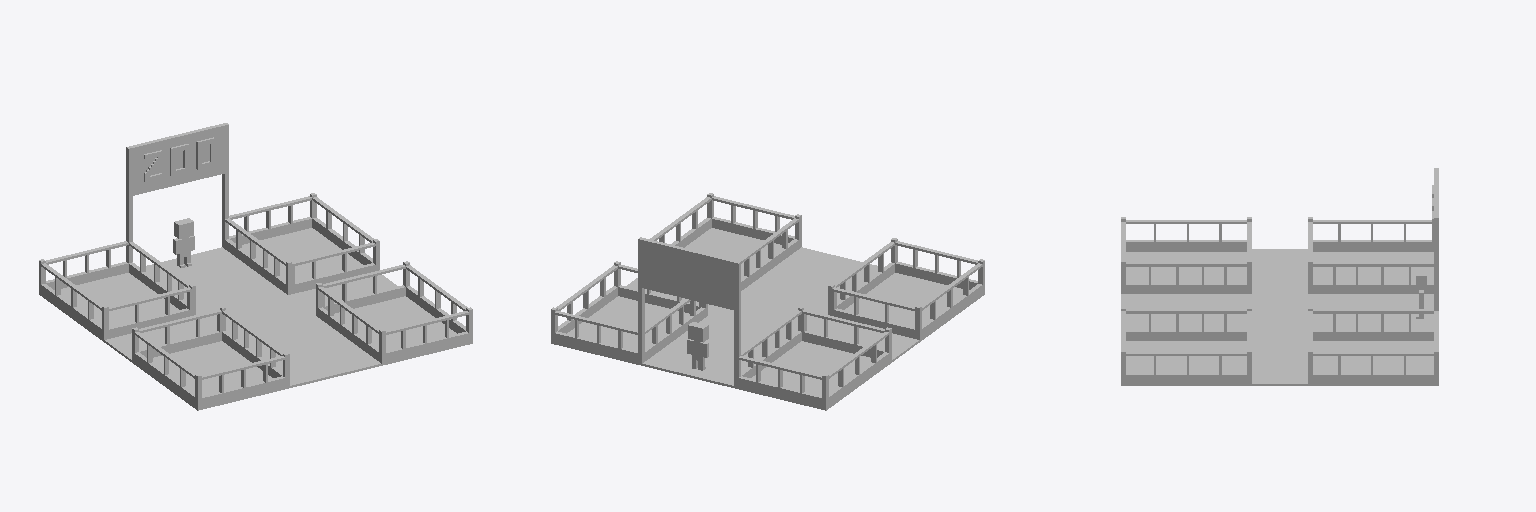
File: zoo.obj
The picture shows the model from 3 angles: view 1: azimuth 30°, elevation 25°; view 2: azimuth 150°, elevation 25°; view 3: azimuth 270°, elevation 25°; orthographic projection.
Parts seen in each view (by area): view 1: farm; view 2: farm; view 3: farm.
Boxes of the visible parts, x1,y1,x2,y2 form: farm: [39, 123, 472, 410]; farm: [551, 193, 984, 410]; farm: [1121, 168, 1438, 385].
Size of the model in its own units: 12.6 by 5.5 by 12.6.